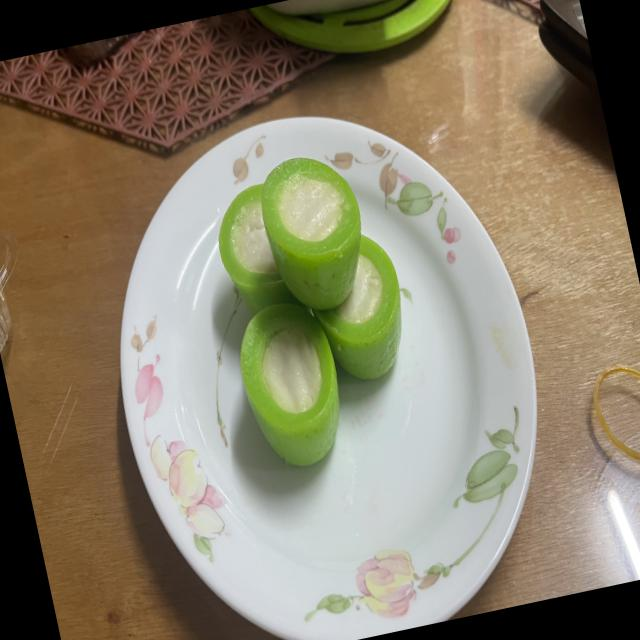nona-manis: (240, 302, 339, 466), (261, 157, 361, 310), (313, 235, 401, 379), (218, 185, 297, 314)
